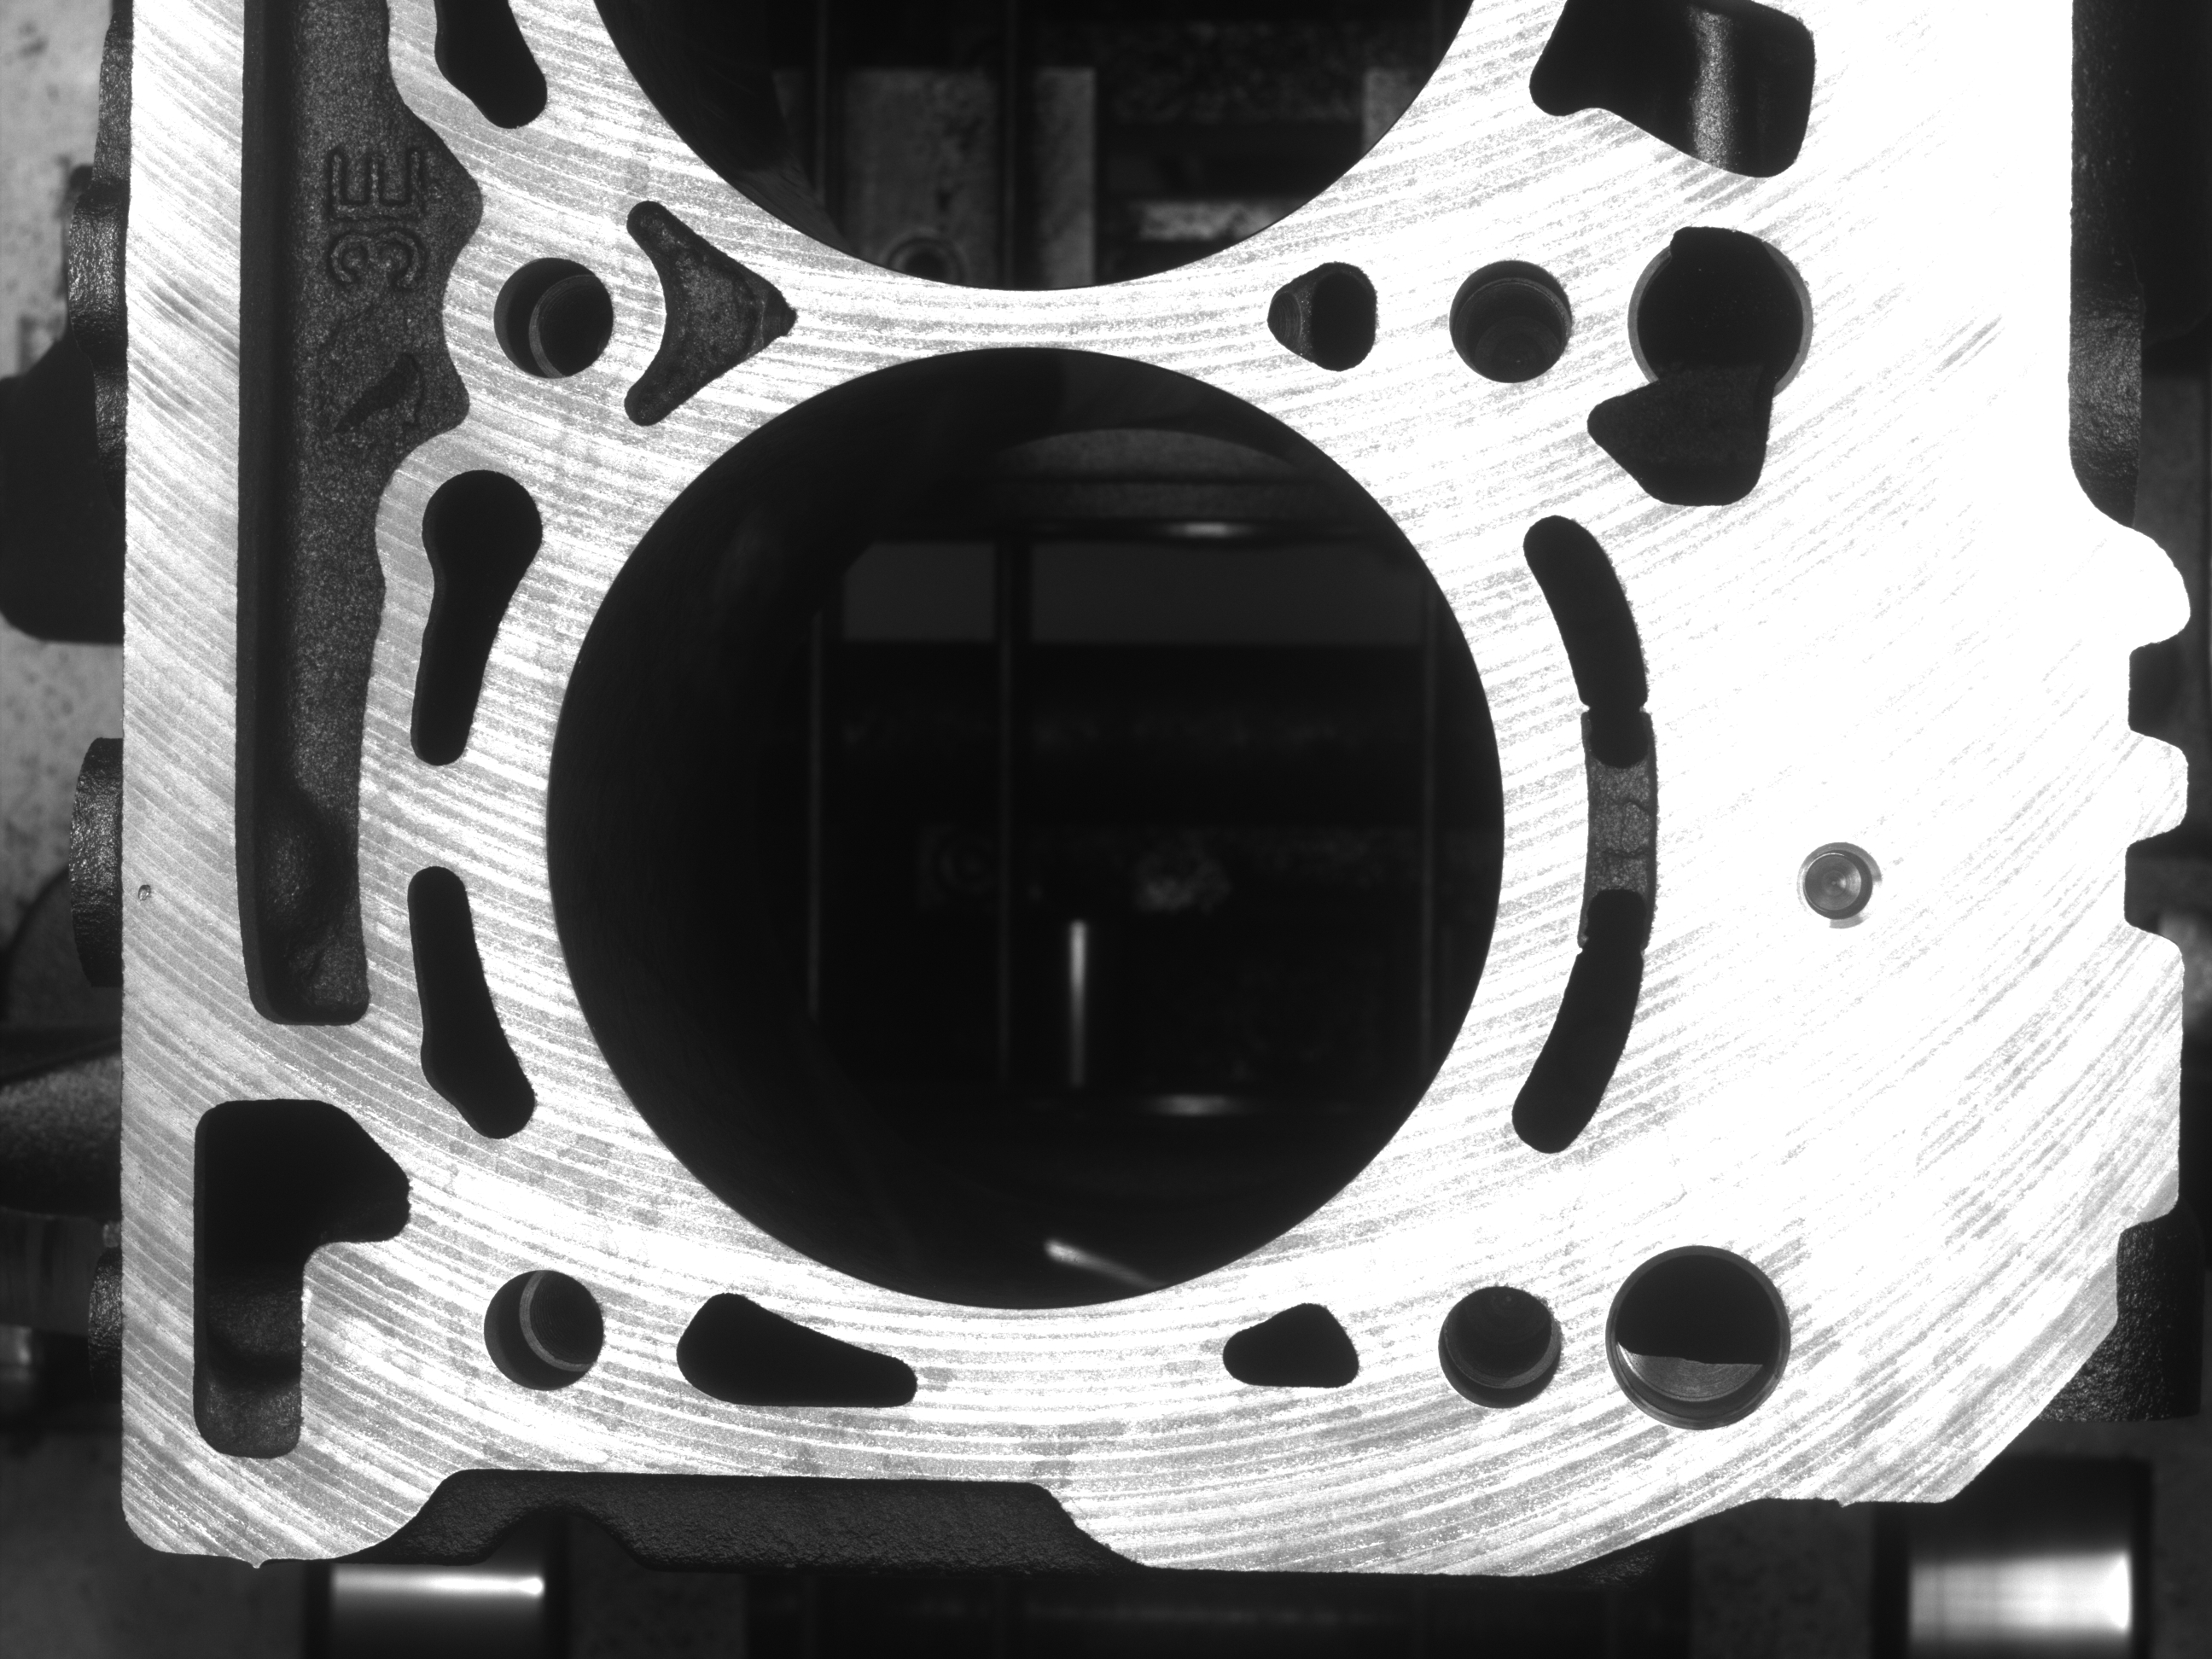shrinkage: (129, 871, 172, 918)
